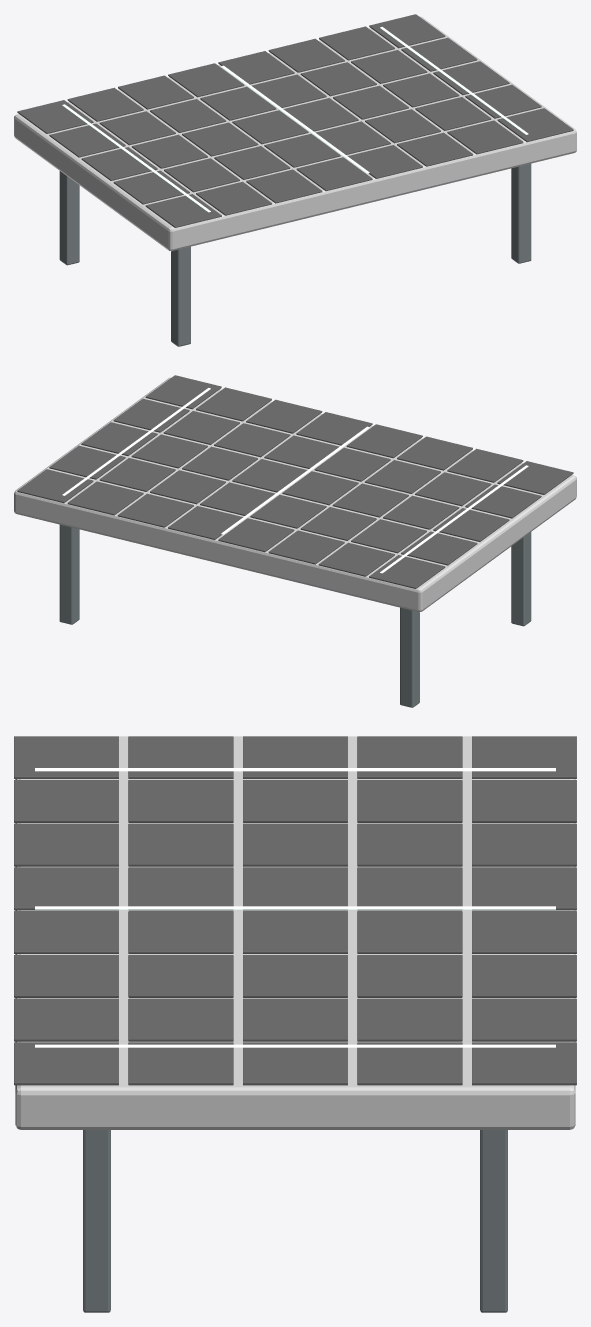
File: solar-array.glb
3 renders of one model, top to bottom at view 1: azimuth 30°, elevation 25°; view 2: azimuth 150°, elevation 25°; view 3: azimuth 270°, elevation 25°, orthographic. The views are drawn at different scales.
Visible parts, largest first — view 1: solar-array_DarkPolymer, solar-array_WhiteArmour, solar-array_EdgeSteel, solar-array_MintStatus; view 2: solar-array_DarkPolymer, solar-array_WhiteArmour, solar-array_EdgeSteel, solar-array_MintStatus; view 3: solar-array_DarkPolymer, solar-array_WhiteArmour, solar-array_EdgeSteel, solar-array_MintStatus.
Part boxes in pixels (bbox=[...]): solar-array_DarkPolymer: bbox=[17, 14, 573, 227]; solar-array_WhiteArmour: bbox=[14, 16, 576, 251]; solar-array_EdgeSteel: bbox=[59, 163, 531, 346]; solar-array_MintStatus: bbox=[62, 27, 528, 212]; solar-array_DarkPolymer: bbox=[17, 375, 573, 588]; solar-array_WhiteArmour: bbox=[14, 377, 576, 612]; solar-array_EdgeSteel: bbox=[59, 524, 531, 707]; solar-array_MintStatus: bbox=[62, 388, 528, 573]; solar-array_DarkPolymer: bbox=[14, 736, 576, 1085]; solar-array_WhiteArmour: bbox=[15, 736, 575, 1129]; solar-array_EdgeSteel: bbox=[83, 1130, 507, 1312]; solar-array_MintStatus: bbox=[35, 768, 555, 1047].
Bounding box in the file's own units: 3.6 × 1.19 × 2.41.
